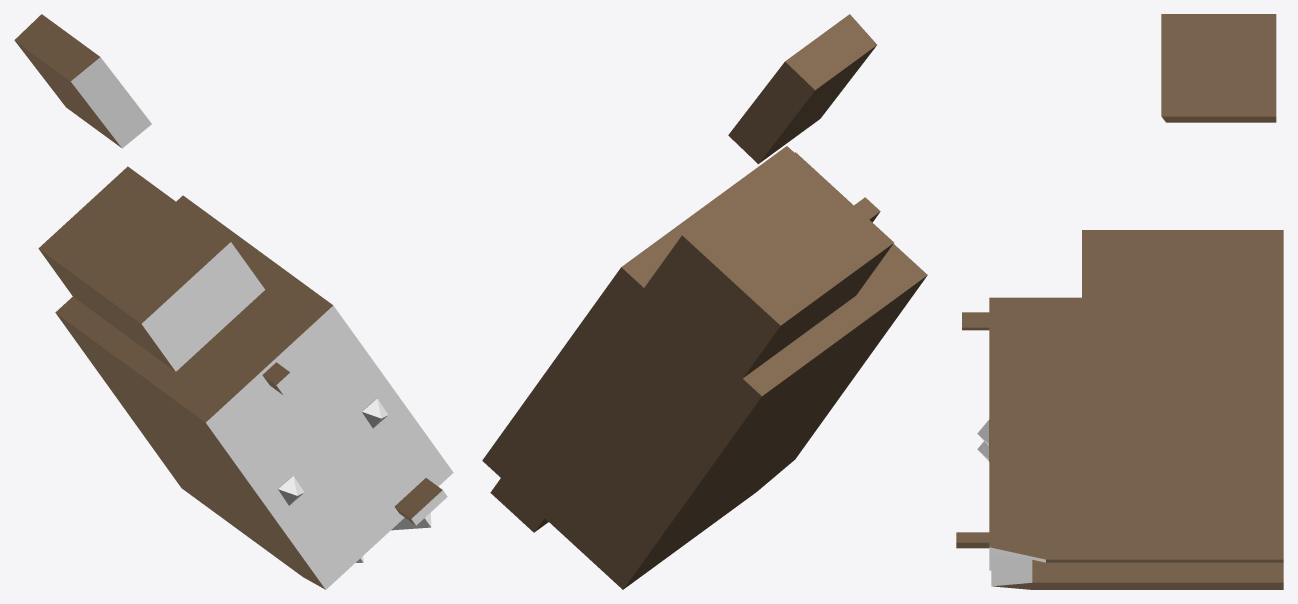
The picture shows the model from 3 angles, left to right: view 1: azimuth 30°, elevation 25°; view 2: azimuth 150°, elevation 25°; view 3: azimuth 270°, elevation 25°; orthographic projection. The views are drawn at different scales.
Parts seen in each view (by area): view 1: City_PC-15667; view 2: City_PC-15667; view 3: City_PC-15667.
Boxes of the visible parts, box(x1,y1,x2,y2) form: City_PC-15667: box(14, 14, 453, 589); City_PC-15667: box(482, 14, 927, 589); City_PC-15667: box(956, 14, 1283, 589).
Size of the model in its own units: 1597 by 2615 by 1549.
